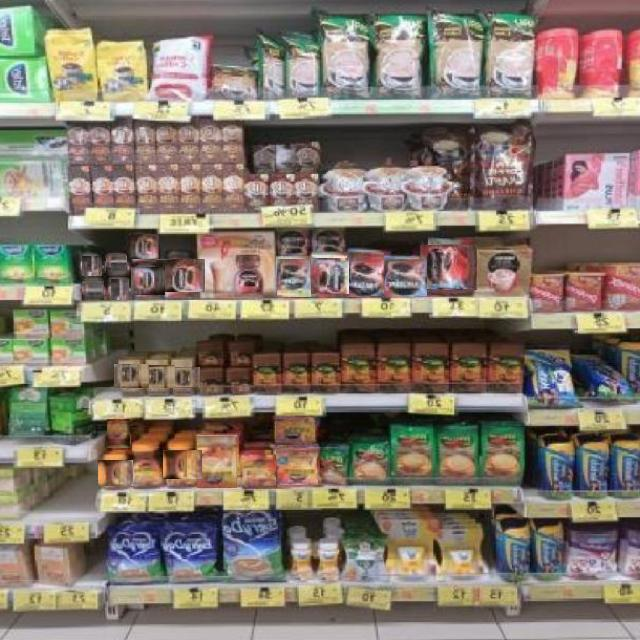Coffee: (421, 244, 477, 290), (196, 434, 237, 488), (383, 258, 427, 297), (346, 252, 384, 296), (156, 258, 205, 292), (276, 448, 318, 485), (307, 259, 349, 294), (276, 258, 311, 297), (159, 449, 202, 479), (133, 444, 163, 487), (275, 417, 315, 445), (130, 268, 165, 295), (99, 459, 133, 486), (163, 366, 200, 388), (138, 366, 175, 388), (114, 365, 149, 388), (129, 233, 159, 259), (106, 419, 130, 448), (81, 280, 104, 300), (106, 253, 127, 274), (82, 256, 102, 276), (112, 278, 129, 300)
